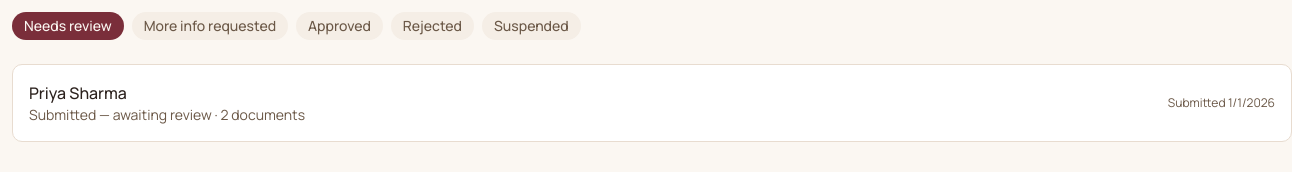
VerificationQueueView › refetches with a different status filter when a filter chip is clicked
The width and height of the screenshot is (1292, 172).
Expected: the text "Priya Sharma" is shown, x1=29 y1=82 x2=127 y2=104
Click the button "Approved". click: (340, 26)
box: x1=296 y1=12 x2=383 y2=40
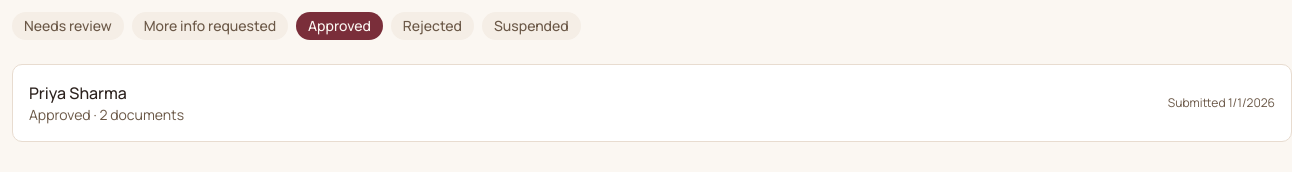
Expected: the text "Approved · 2 documents" is shown, x1=29 y1=105 x2=184 y2=125
